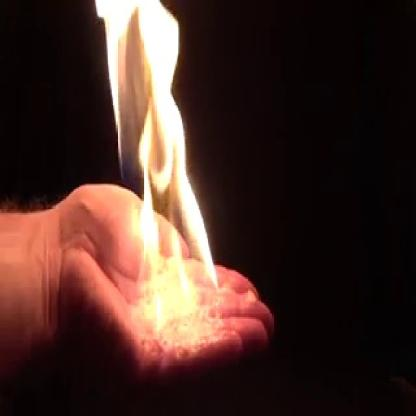fire: (95, 0, 226, 328)
